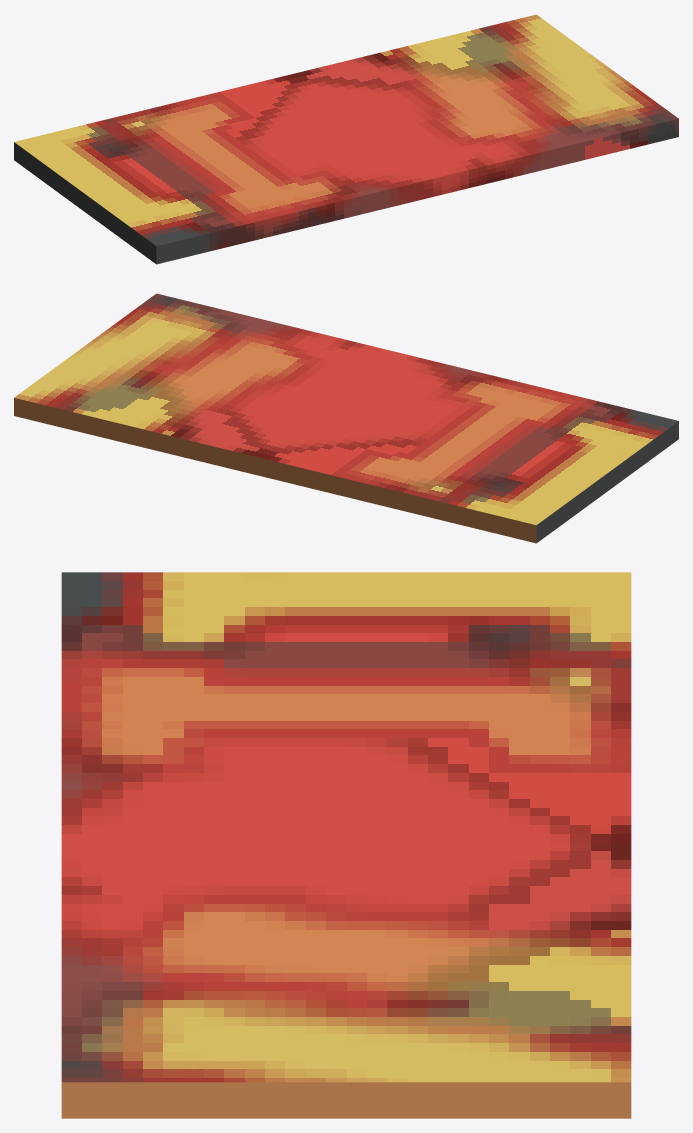
The model's file is section-4.obj.
The picture shows the model from 3 angles, top to bottom: view 1: azimuth 30°, elevation 25°; view 2: azimuth 150°, elevation 25°; view 3: azimuth 270°, elevation 25°; orthographic projection. The views are drawn at different scales.
Bounding box in the file's own units: 0.9121 × 0.0304 × 0.4307.
Materials: 1 (1 with a texture image).
